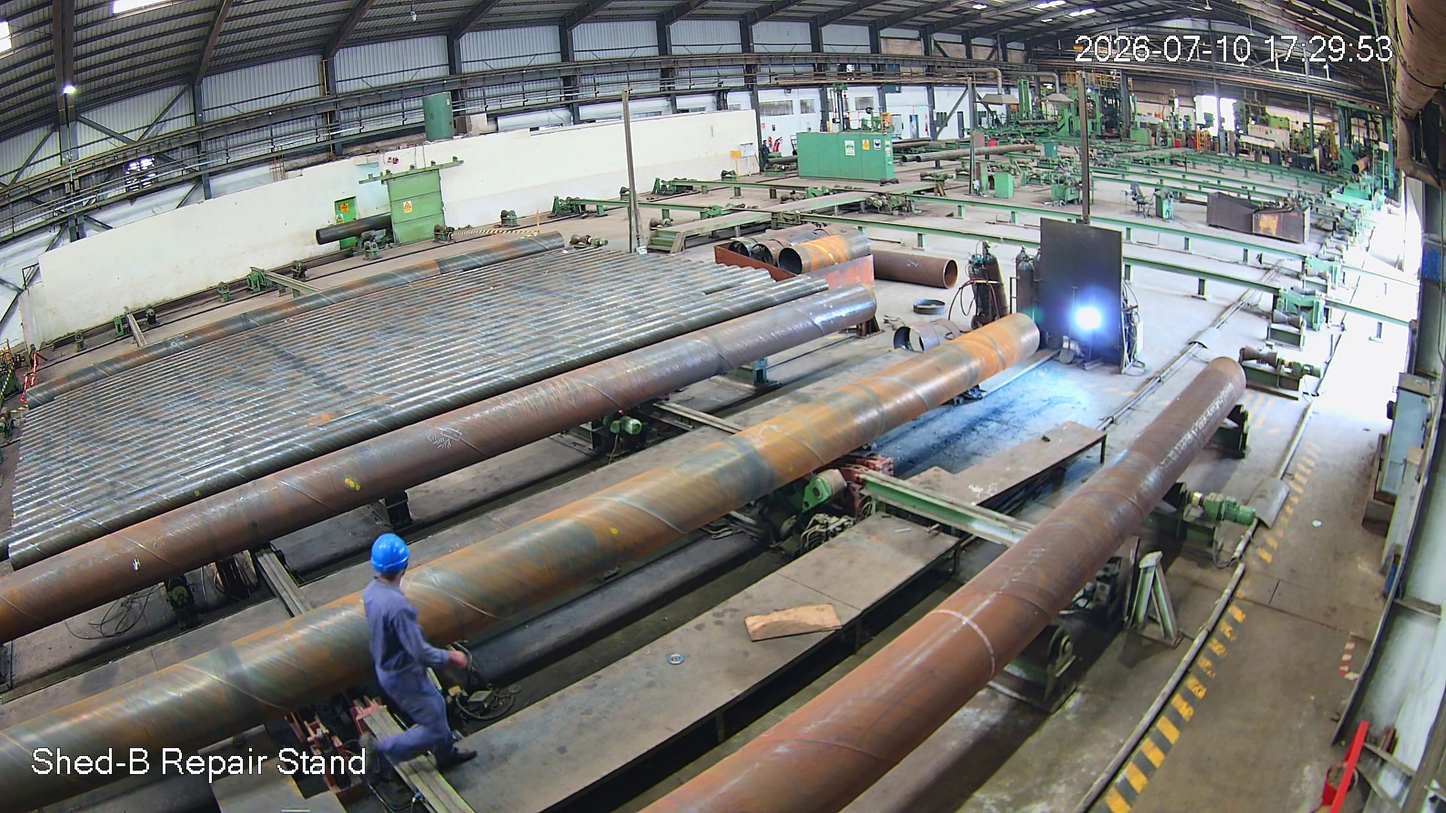Helmet: (354, 527, 432, 607)
Person: (339, 534, 488, 780)
